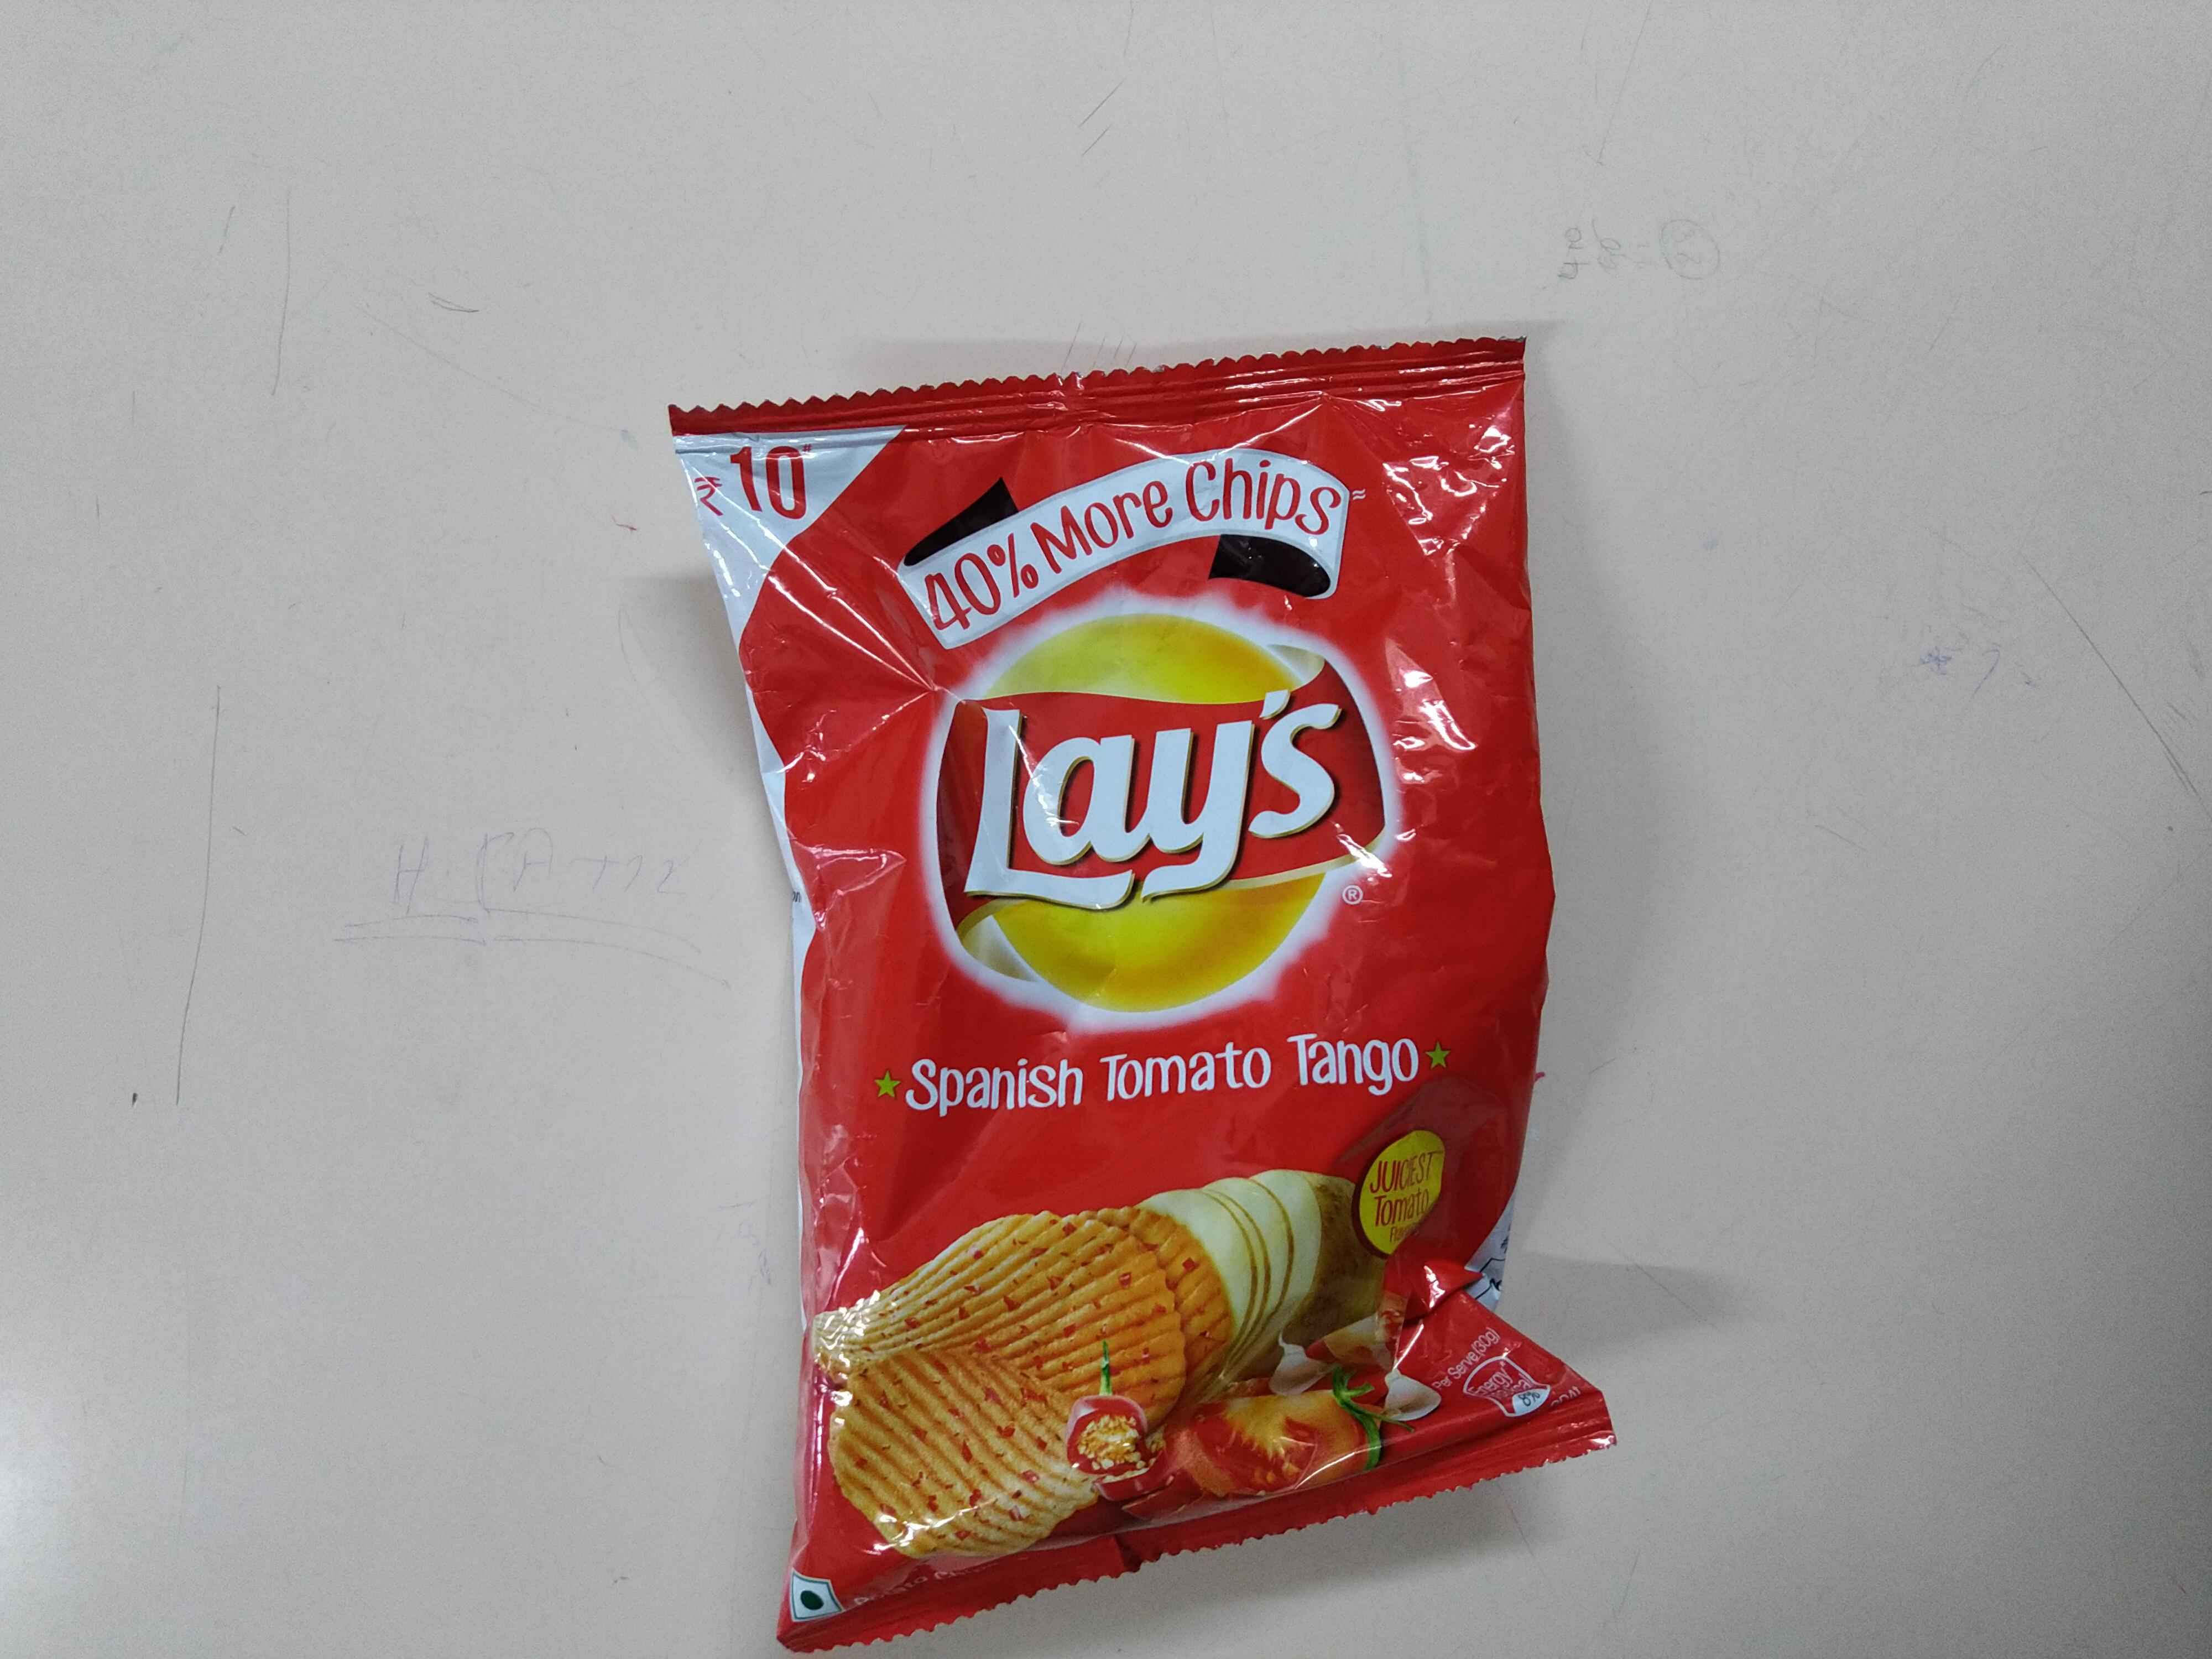Lays: (920, 579, 1414, 1054)
